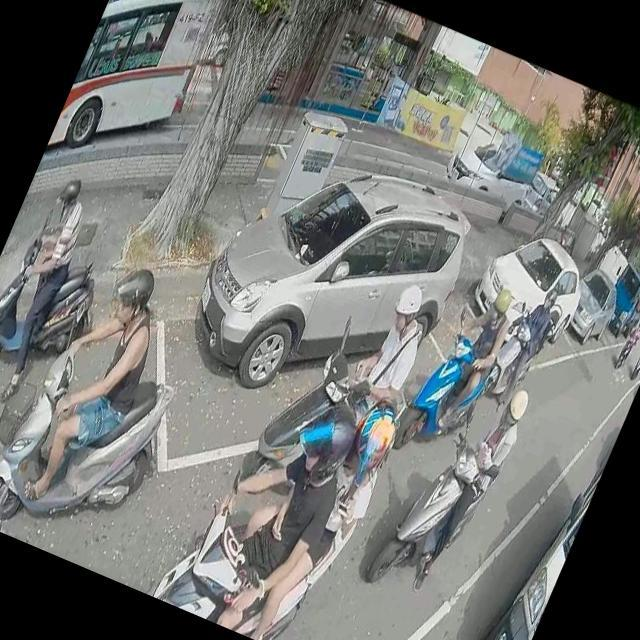person: (164, 360, 376, 640), (206, 370, 403, 640), (2, 243, 185, 528), (403, 368, 535, 603), (0, 171, 107, 392), (420, 266, 525, 438), (333, 274, 440, 436), (487, 284, 568, 414), (0, 472, 17, 530), (626, 319, 640, 343)
